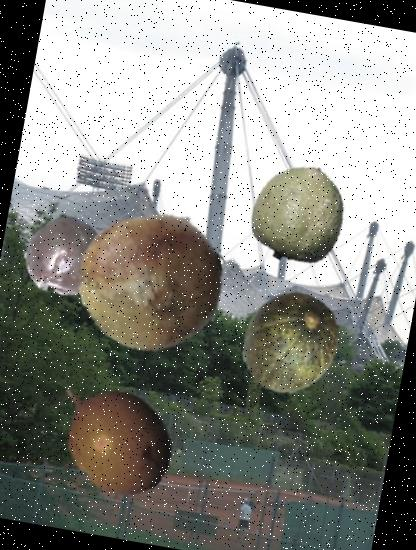Granadilla: (36, 361, 189, 514)
Limes: (242, 156, 358, 272)
Melon: (233, 282, 352, 402)
Onion: (67, 199, 235, 367)
Passion: (18, 205, 116, 303)
